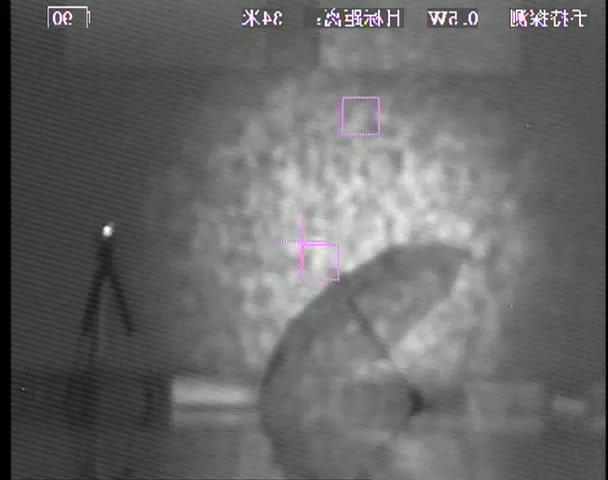my: (100, 223, 113, 236)
